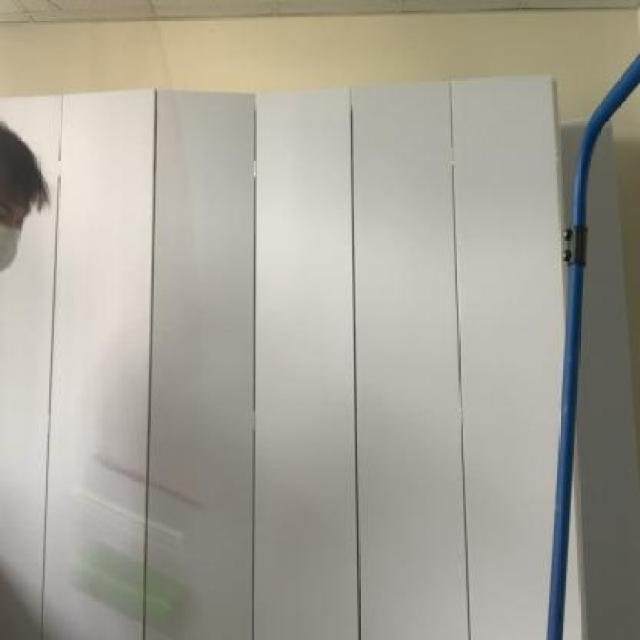baseball: (61, 520, 192, 637)
